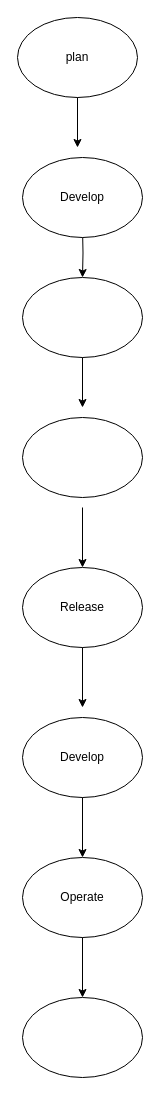
Image size: 160x1095. Some labels were removed from this diagram. The box of each missing label's shape, as (x1, y1, x2, y2) in pixels:
Build: (22, 276, 142, 358)
Monitor: (22, 996, 142, 1078)
Test: (22, 416, 142, 498)
